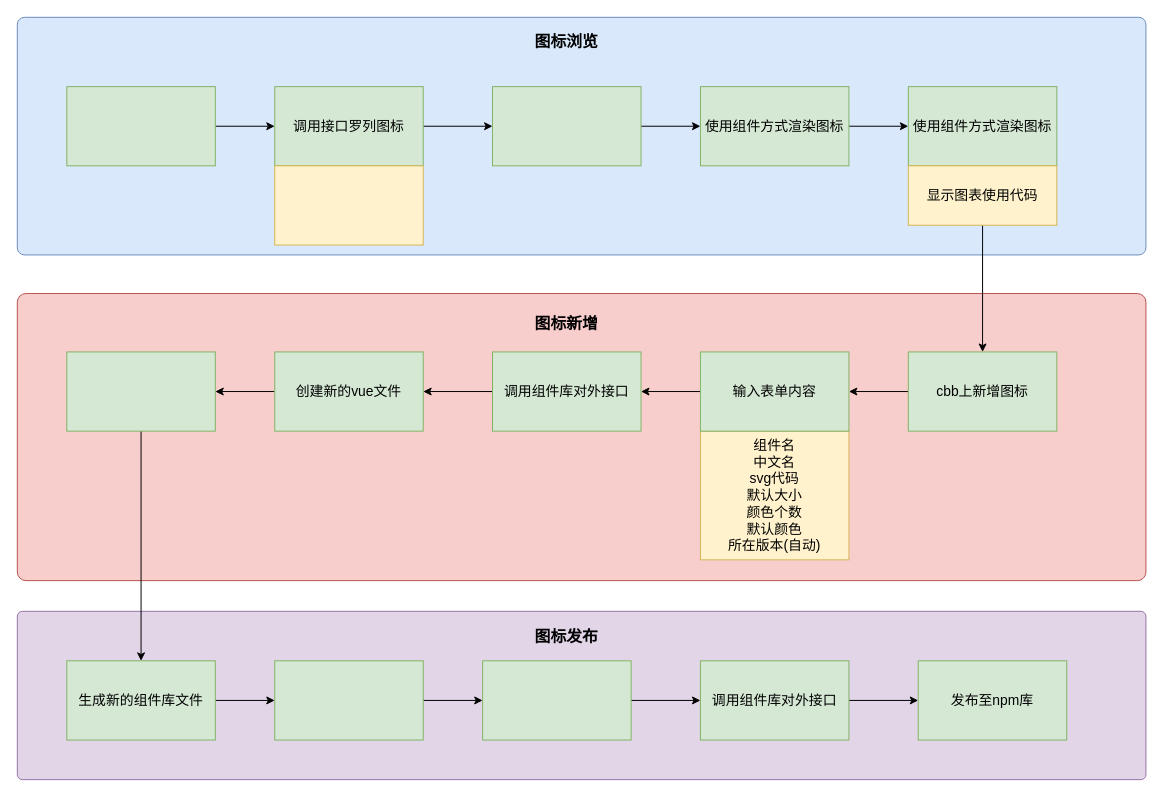
Some shapes in this 1163 by 797 pixel diagram are drawn without their labels. Each missing label, with the box of its shape:
发布: (274, 660, 423, 740)
查看cbb图标页面: (66, 86, 215, 166)
版本号匹配显示“new ”标志 版本号高于目前版本显示“未发布”标志: (274, 165, 423, 245)
确认新的版本号(自动): (482, 660, 631, 740)
编译: (66, 351, 215, 431)
调用在线版图标组件库: (492, 86, 641, 166)
